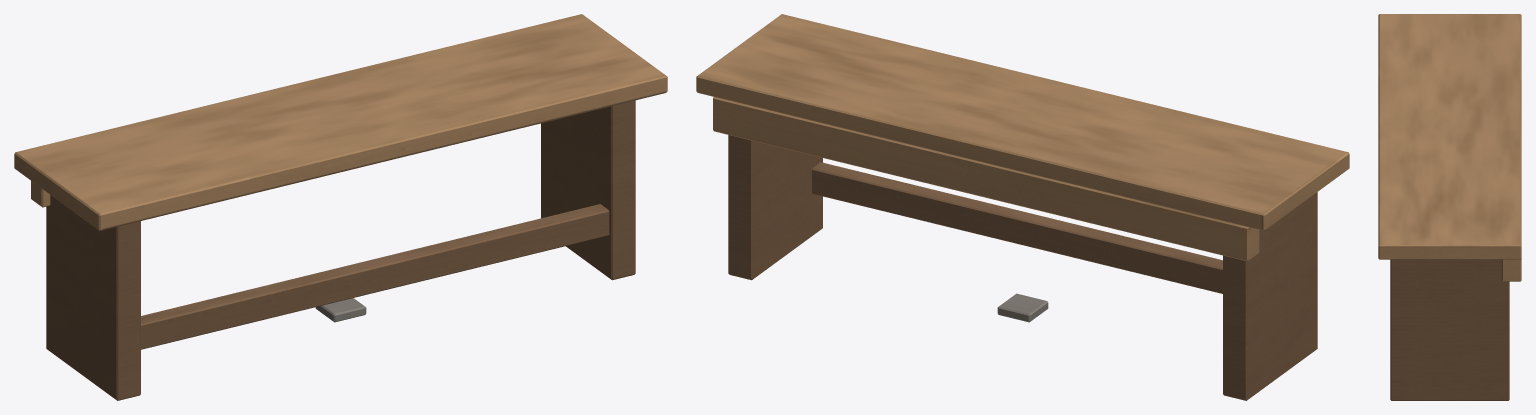
File: furn_bench.glb
3 renders of one model, left to right at view 1: azimuth 30°, elevation 25°; view 2: azimuth 150°, elevation 25°; view 3: azimuth 270°, elevation 25°, orthographic. The views are drawn at different scales.
Visible parts, largest first — view 1: furn_bench; view 2: furn_bench; view 3: furn_bench.
Part boxes in pixels (x1,y1,x2,y2): furn_bench: (14, 14, 667, 400); furn_bench: (696, 14, 1349, 400); furn_bench: (1378, 14, 1521, 400).
Bounding box in the file's own units: 1.38 × 0.46 × 0.36.
1 material, 1 textured.
